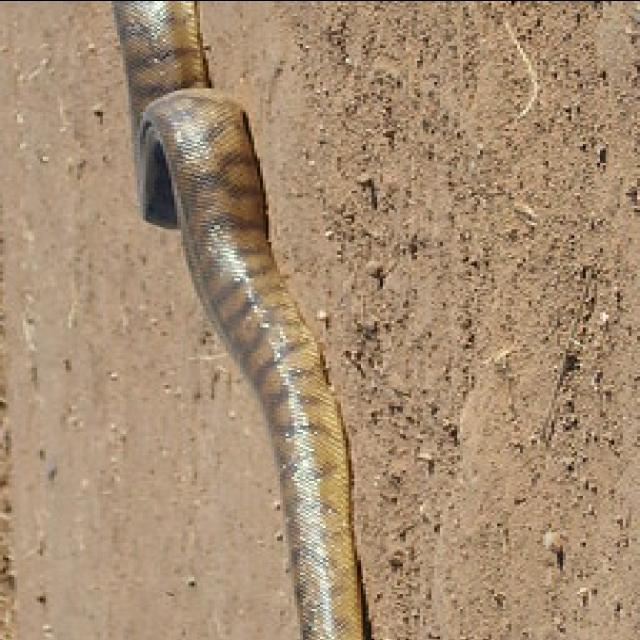Snake: (42, 0, 408, 640)
